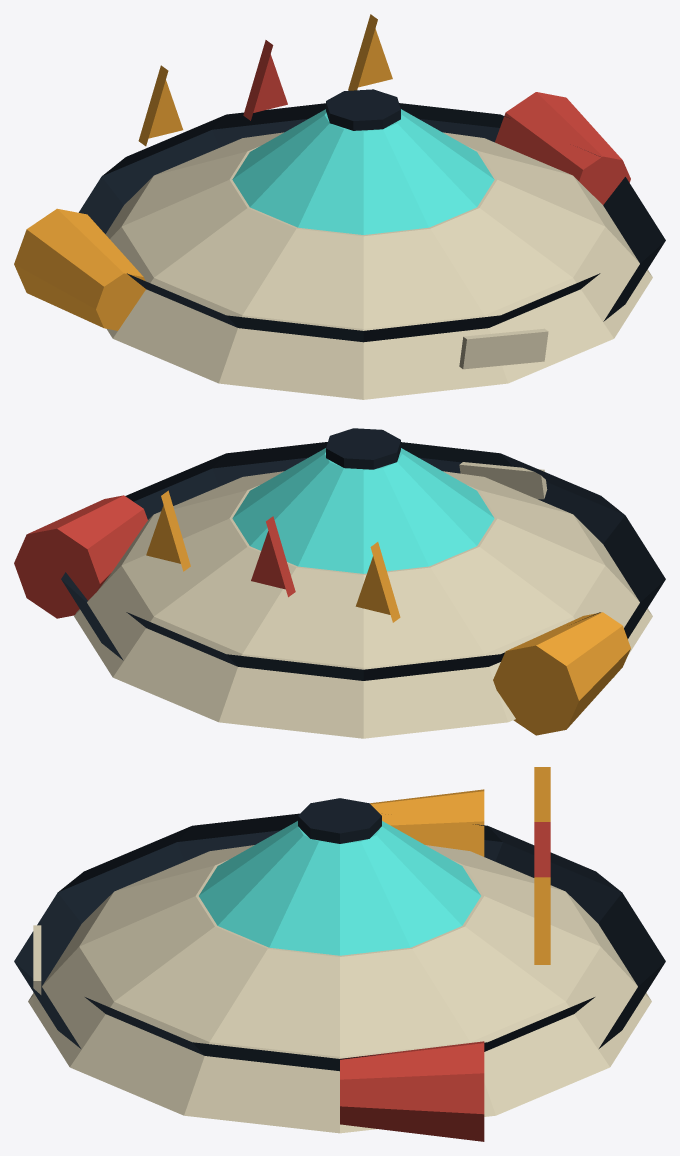
File: ufo-modular-v1-Bg6ew_zB.glb
3 views of the same model, one above another, from view 1: azimuth 30°, elevation 25°; view 2: azimuth 150°, elevation 25°; view 3: azimuth 270°, elevation 25° (orthographic). The views are drawn at different scales.
Visible parts, largest first — view 1: UFO_Normal_UpperHull, UFO_Normal_LowerHull, UFO_Normal_Cockpit, UFO_Normal_OuterRing, UFO_Normal_IllegalBoosterLeft, UFO_Normal_IllegalBoosterRight, UFO_Normal_CrookedPermitPlate, UFO_Normal_CockpitCap, UFO_Normal_AntennaFin_01, UFO_Normal_AntennaFin_02, UFO_Normal_AntennaFin_03; view 2: UFO_Normal_UpperHull, UFO_Normal_LowerHull, UFO_Normal_Cockpit, UFO_Normal_OuterRing, UFO_Normal_IllegalBoosterLeft, UFO_Normal_IllegalBoosterRight, UFO_Normal_CockpitCap, UFO_Normal_AntennaFin_01, UFO_Normal_AntennaFin_02, UFO_Normal_AntennaFin_03, UFO_Normal_CrookedPermitPlate; view 3: UFO_Normal_UpperHull, UFO_Normal_LowerHull, UFO_Normal_Cockpit, UFO_Normal_OuterRing, UFO_Normal_IllegalBoosterRight, UFO_Normal_IllegalBoosterLeft, UFO_Normal_CockpitCap, UFO_Normal_AntennaFin_03, UFO_Normal_AntennaFin_02, UFO_Normal_AntennaFin_01, UFO_Normal_CrookedPermitPlate.
Boxes of the visible parts, box(x1,y1,x2,y2) form: UFO_Normal_UpperHull: box(121, 132, 605, 328); UFO_Normal_LowerHull: box(105, 176, 652, 399); UFO_Normal_Cockpit: box(232, 109, 494, 234); UFO_Normal_OuterRing: box(79, 103, 665, 342); UFO_Normal_IllegalBoosterLeft: box(14, 208, 145, 330); UFO_Normal_IllegalBoosterRight: box(495, 92, 630, 204); UFO_Normal_CrookedPermitPlate: box(459, 328, 548, 369); UFO_Normal_CockpitCap: box(326, 89, 400, 130); UFO_Normal_AntennaFin_01: box(138, 65, 183, 146); UFO_Normal_AntennaFin_02: box(243, 40, 287, 120); UFO_Normal_AntennaFin_03: box(348, 14, 392, 90); UFO_Normal_UpperHull: box(121, 471, 605, 667); UFO_Normal_LowerHull: box(74, 514, 652, 738); UFO_Normal_Cockpit: box(232, 448, 494, 573); UFO_Normal_OuterRing: box(61, 442, 665, 680); UFO_Normal_IllegalBoosterLeft: box(493, 612, 630, 735); UFO_Normal_IllegalBoosterRight: box(14, 495, 147, 618); UFO_Normal_CockpitCap: box(326, 428, 400, 469); UFO_Normal_AntennaFin_01: box(355, 542, 400, 622); UFO_Normal_AntennaFin_02: box(251, 516, 295, 597); UFO_Normal_AntennaFin_03: box(146, 490, 190, 571); UFO_Normal_CrookedPermitPlate: box(459, 462, 547, 499); UFO_Normal_UpperHull: box(79, 845, 600, 1056); UFO_Normal_LowerHull: box(28, 892, 651, 1133); UFO_Normal_Cockpit: box(199, 821, 480, 955); UFO_Normal_OuterRing: box(14, 813, 665, 1071); UFO_Normal_IllegalBoosterRight: box(340, 1041, 484, 1141); UFO_Normal_IllegalBoosterLeft: box(370, 789, 484, 856); UFO_Normal_CockpitCap: box(298, 798, 381, 843); UFO_Normal_AntennaFin_03: box(534, 877, 550, 964); UFO_Normal_AntennaFin_02: box(534, 822, 550, 877); UFO_Normal_AntennaFin_01: box(534, 767, 550, 821); UFO_Normal_CrookedPermitPlate: box(33, 925, 41, 1010).
Size of what is drawn, in the model's own units: 3.02 by 1.12 by 2.8.
